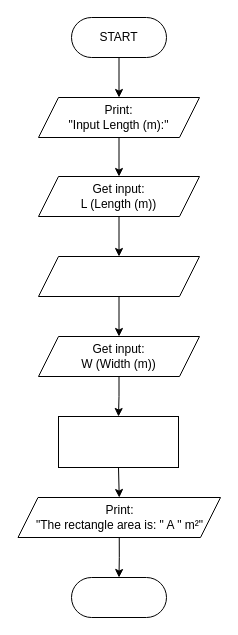
This 238x635 diagram has some shape labels left out. The shapes that lost their labels are listed below. From the top down, each one's centre as x and y in pixels, then its label:
point (119, 276): Print: "Input Width (m):"
point (118, 442): A = L × W
point (118, 597): END
